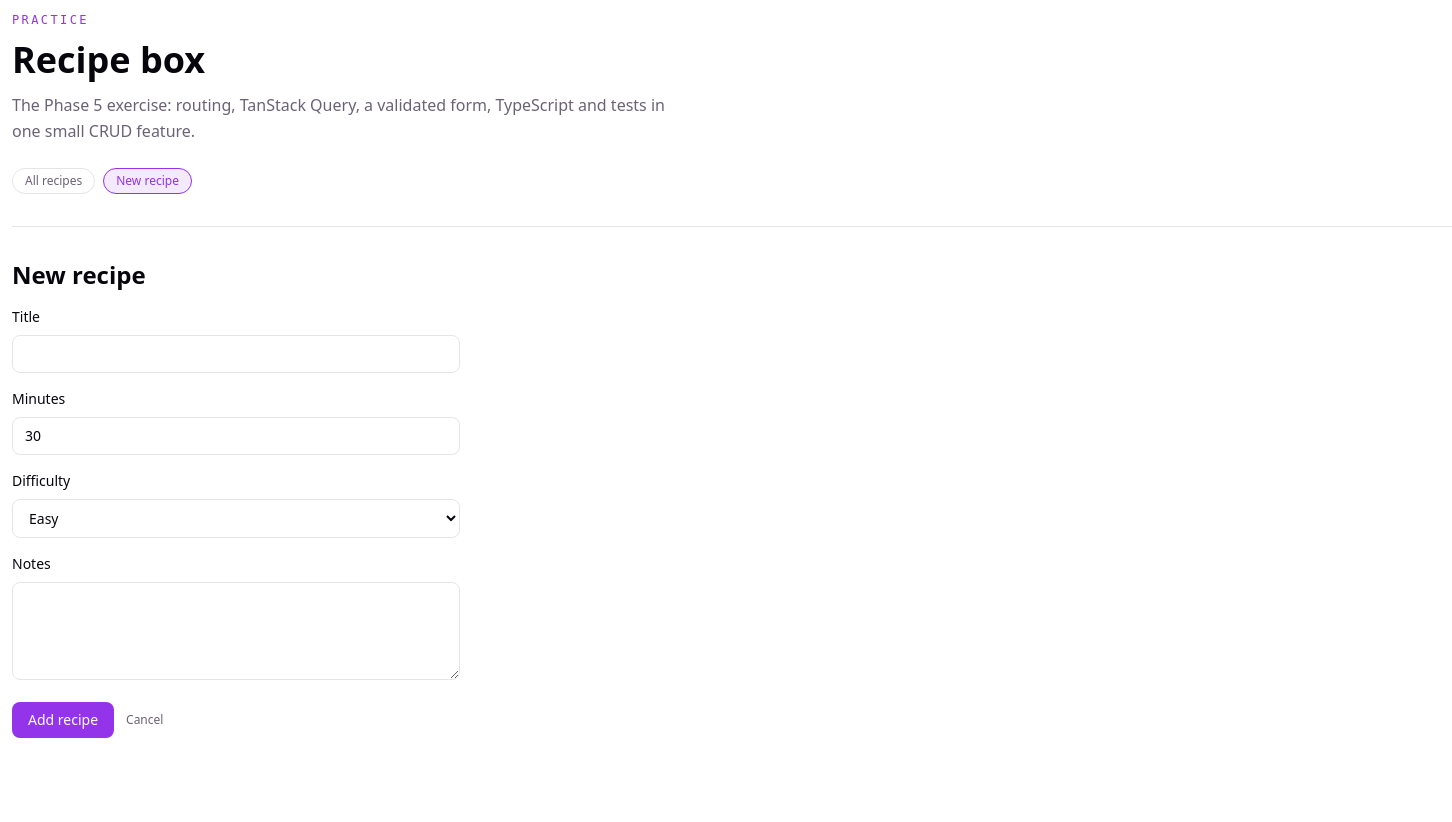
Test: recipe box › creates a recipe and navigates to it
Type "Tomato soup" into the field labelled "Title" at (236, 354), box 12,335 -> 460,373
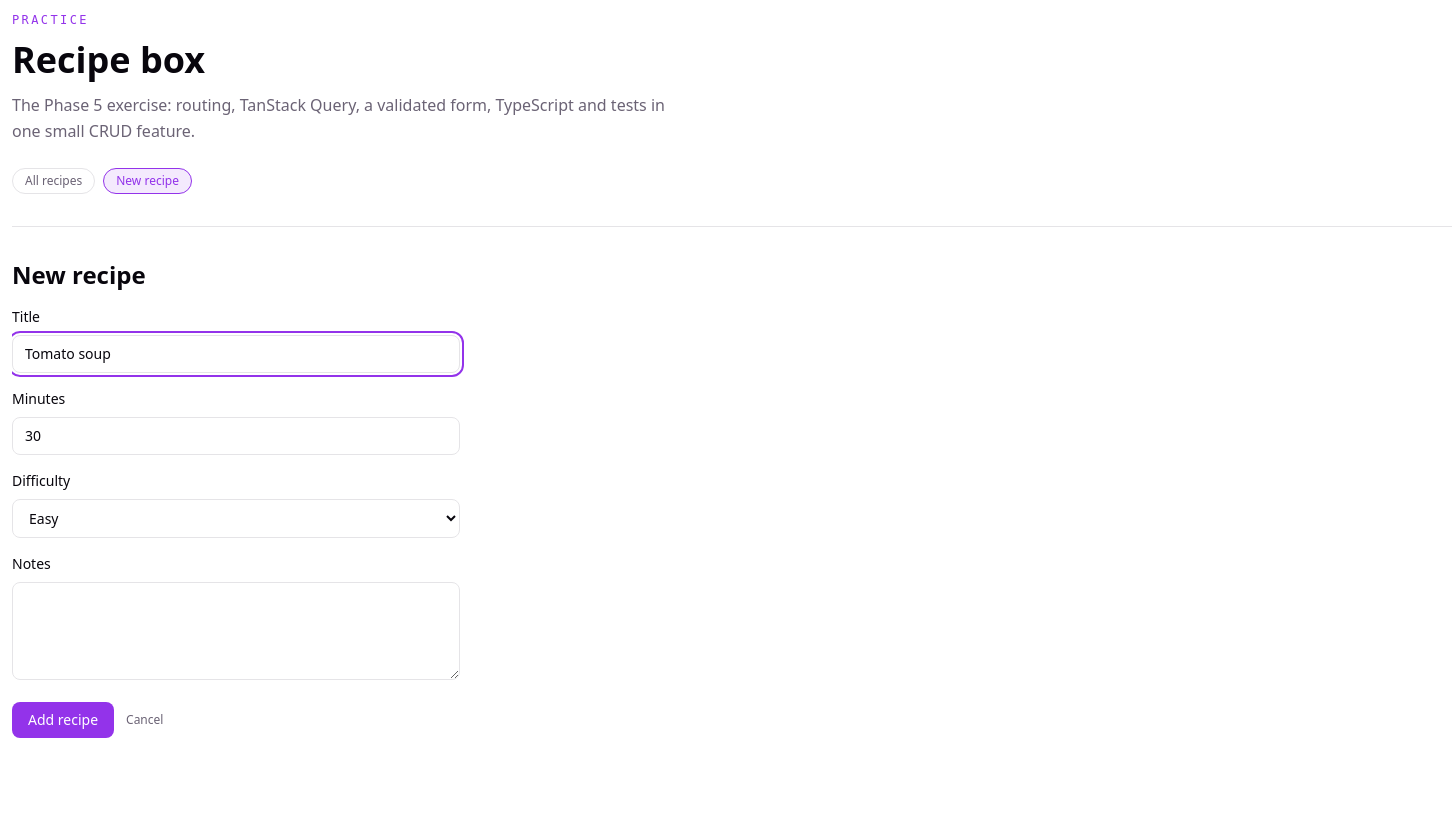
Replace the text in the number field labelled "Minutes" with "20" at (236, 436), box 12,417 -> 460,455
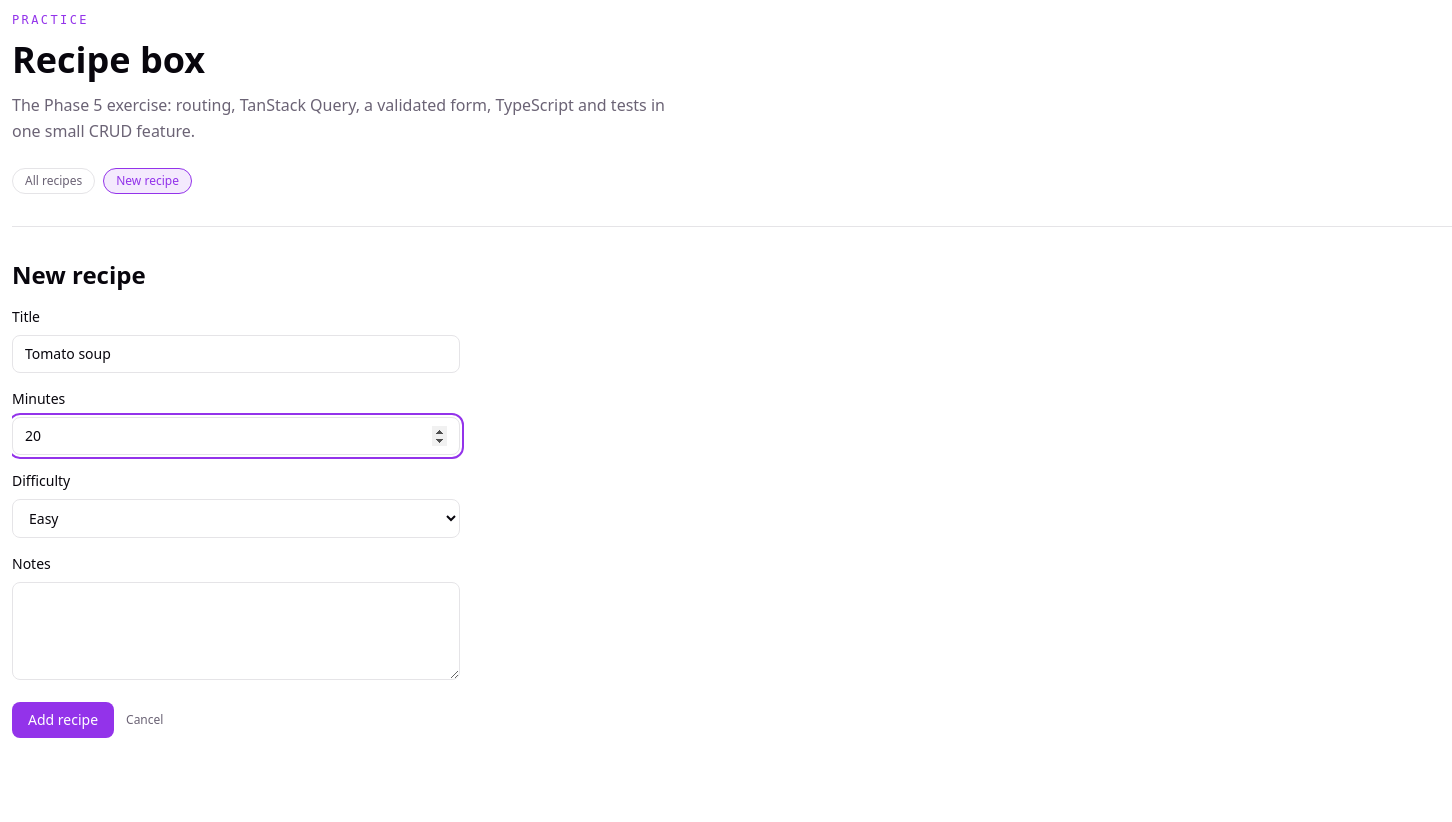
Type "Blend while hot." into the text box labelled "Notes" at (236, 631), box 12,582 -> 460,680
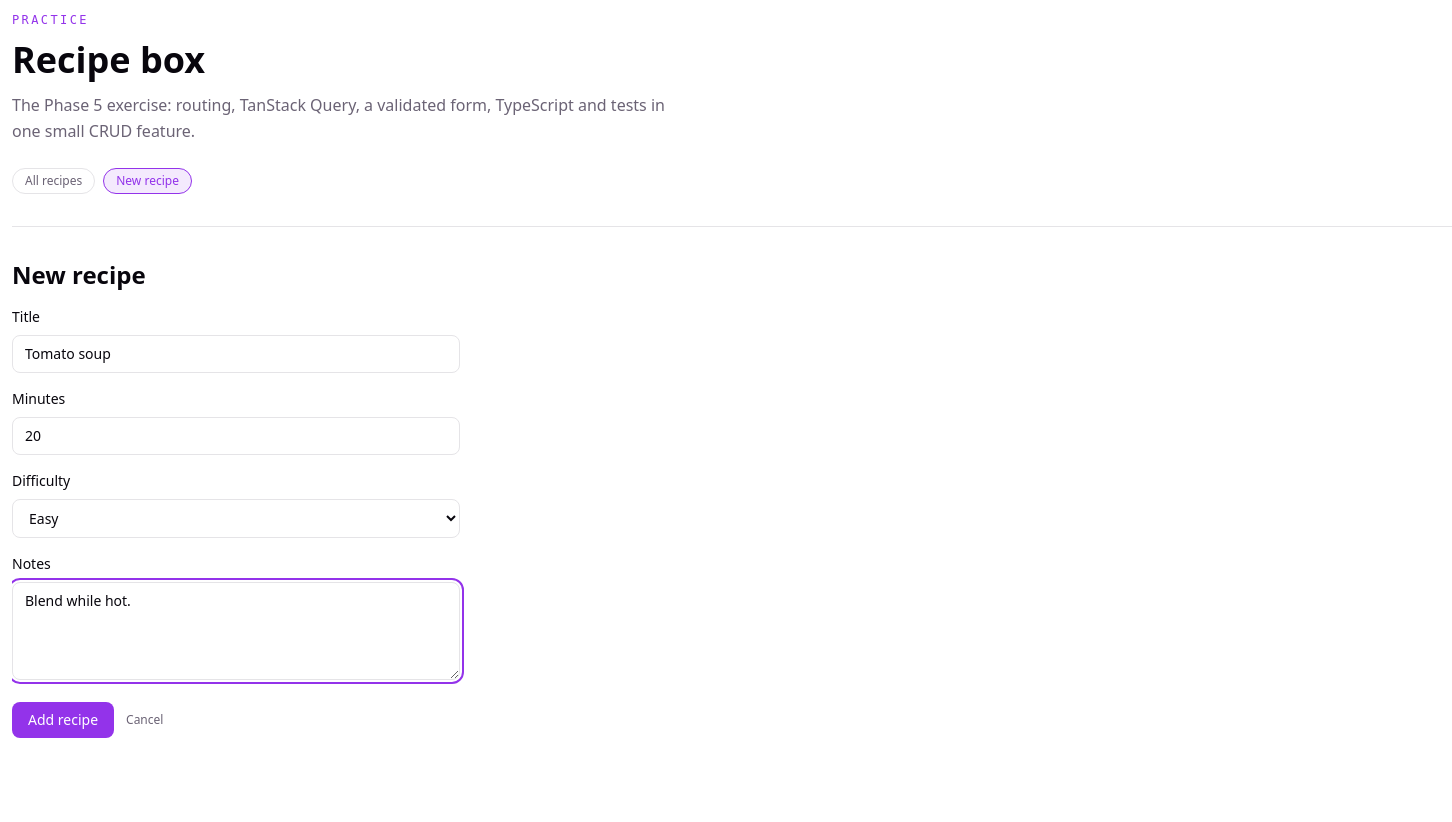
Click the button "Add recipe" at (63, 720), box 12,702 -> 114,738
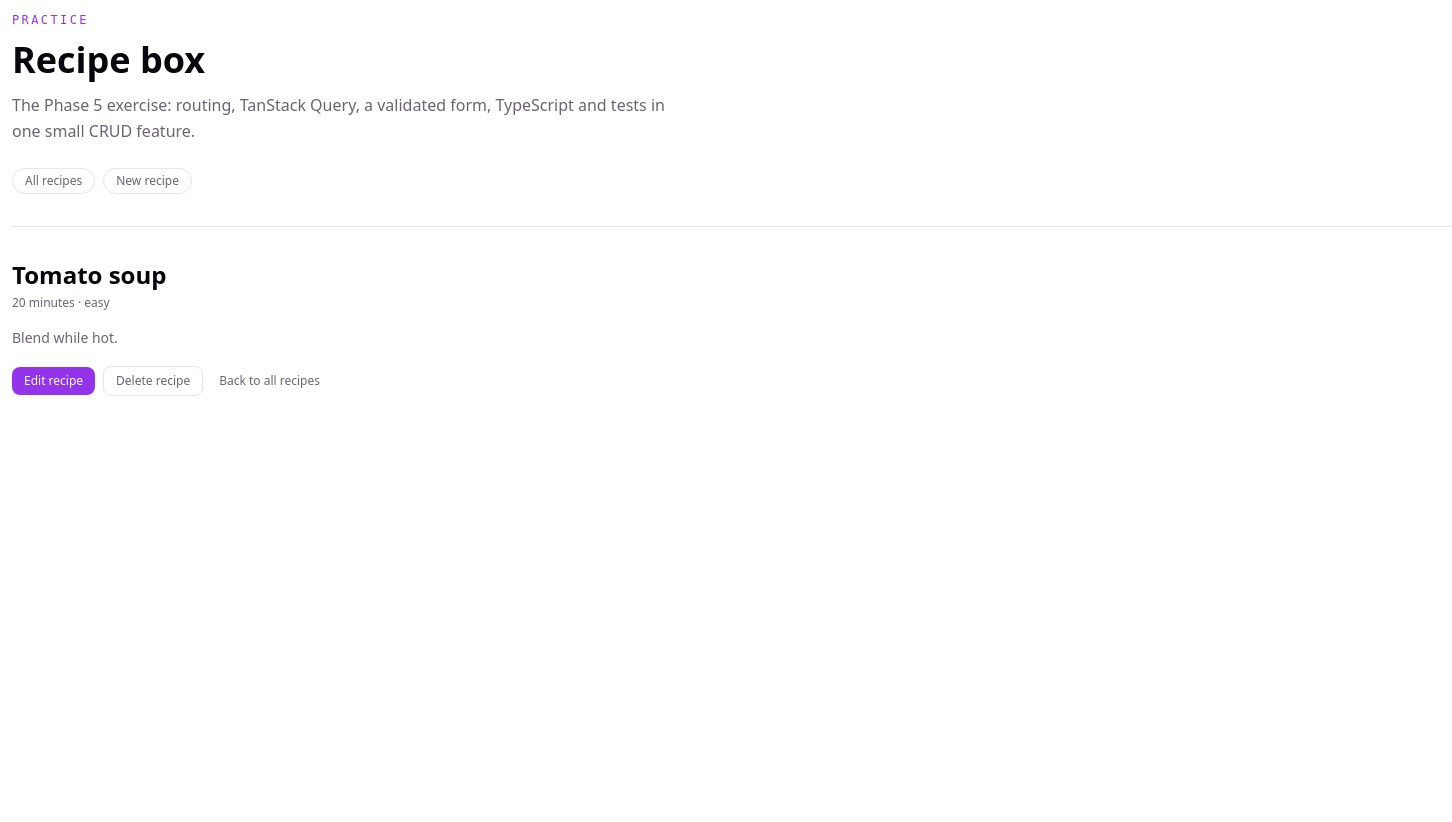
Expected: the heading "Tomato soup" is shown, 12,258 -> 166,291
